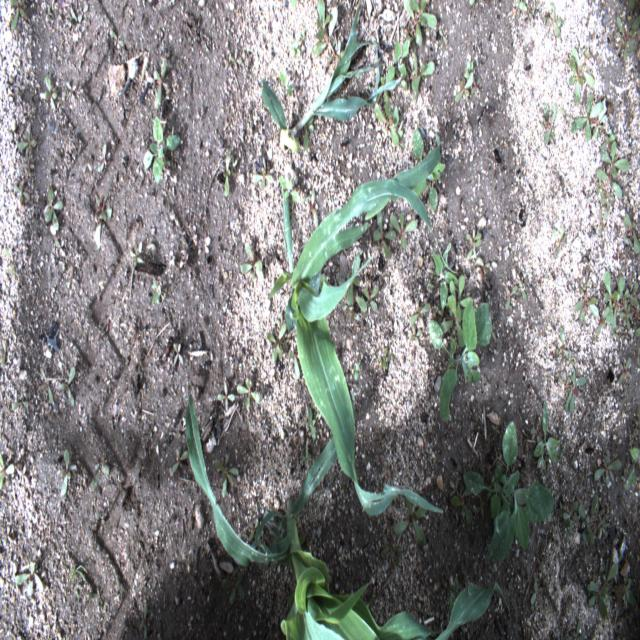crop: (184, 389, 510, 639), (268, 133, 458, 519), (261, 0, 402, 153)
weed: (463, 421, 555, 562), (427, 296, 492, 422), (410, 129, 446, 212), (144, 117, 180, 184), (425, 242, 458, 310), (312, 0, 346, 65), (393, 494, 429, 548), (534, 401, 561, 470), (587, 563, 619, 618), (402, 0, 437, 47), (570, 94, 604, 139), (373, 100, 404, 146), (440, 294, 466, 348), (411, 52, 436, 102), (63, 558, 88, 606), (385, 38, 410, 86), (388, 211, 418, 251), (448, 274, 473, 322), (572, 282, 600, 324), (600, 138, 630, 177), (373, 208, 395, 261), (94, 192, 112, 252), (338, 276, 367, 313), (614, 13, 636, 61), (564, 366, 586, 414), (16, 561, 44, 597), (570, 48, 595, 88), (266, 321, 288, 366), (214, 459, 239, 498), (595, 448, 621, 485), (221, 566, 246, 604), (580, 494, 598, 546), (42, 188, 64, 230), (152, 57, 169, 111), (450, 486, 474, 524), (56, 450, 76, 495), (242, 242, 264, 282), (236, 378, 262, 410), (568, 56, 584, 108), (597, 168, 623, 200), (610, 276, 624, 335), (604, 269, 619, 324), (346, 254, 361, 307), (453, 69, 475, 104), (540, 102, 558, 144), (277, 175, 302, 204), (592, 95, 608, 140), (578, 503, 594, 545), (61, 366, 76, 410), (88, 461, 110, 491), (624, 212, 639, 256), (596, 176, 614, 212), (0, 450, 16, 490), (546, 1, 564, 36), (216, 380, 236, 411), (39, 366, 54, 404), (624, 448, 638, 488), (556, 326, 572, 361), (9, 0, 27, 31), (410, 300, 431, 326), (251, 167, 274, 190), (618, 296, 634, 328), (302, 405, 316, 441), (594, 507, 609, 540), (363, 284, 380, 313), (552, 224, 566, 259), (529, 581, 550, 604), (465, 232, 482, 260), (44, 73, 56, 112), (618, 580, 636, 606), (290, 28, 306, 56), (597, 304, 610, 338), (288, 351, 304, 378), (302, 114, 314, 150), (222, 150, 231, 197), (130, 240, 145, 268), (88, 585, 106, 608), (618, 355, 632, 384), (173, 448, 189, 473), (18, 132, 36, 154), (58, 2, 77, 22), (12, 392, 29, 414), (400, 64, 413, 92), (624, 280, 638, 306), (568, 620, 586, 640), (310, 188, 319, 227), (302, 436, 311, 475), (138, 603, 148, 638), (151, 279, 166, 302), (564, 500, 579, 523), (13, 183, 30, 203), (279, 71, 292, 97), (382, 544, 404, 559), (628, 0, 639, 30), (475, 255, 491, 275), (505, 284, 517, 310), (378, 346, 392, 368), (230, 47, 242, 72), (598, 204, 608, 234), (97, 144, 107, 173), (108, 29, 124, 47), (4, 247, 13, 279), (172, 342, 184, 366), (601, 136, 617, 154), (448, 474, 460, 498), (21, 154, 34, 176), (561, 516, 571, 544), (517, 275, 527, 302), (49, 225, 61, 247), (463, 59, 474, 81), (516, 0, 529, 18), (78, 3, 89, 24), (248, 517, 258, 540), (471, 76, 482, 95), (381, 75, 388, 103), (67, 81, 76, 100), (613, 325, 622, 344), (0, 339, 6, 367), (439, 27, 447, 46), (353, 361, 359, 380), (635, 327, 639, 339), (288, 1, 296, 6)
